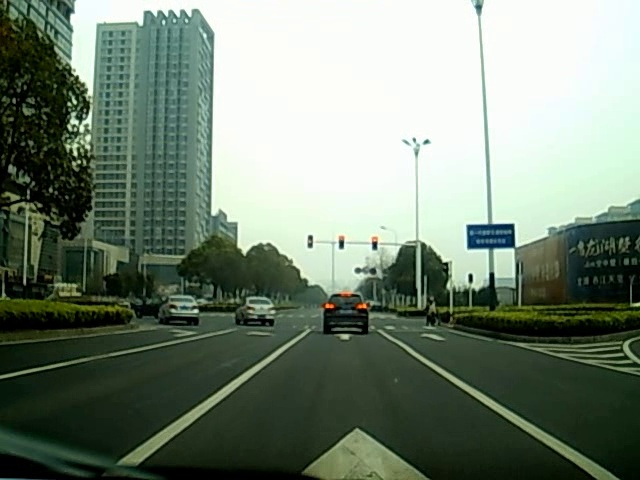Traffic_Light_stop: (337, 236, 345, 251), (370, 237, 377, 250)
